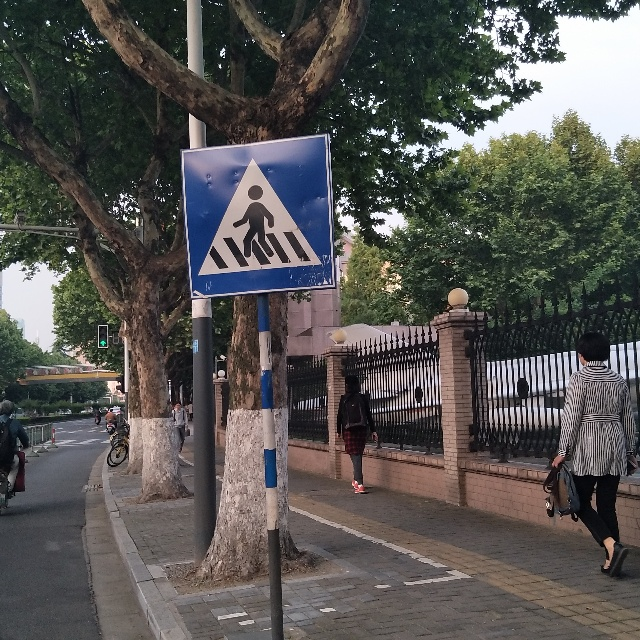crosswalk: (192, 148, 320, 289)
